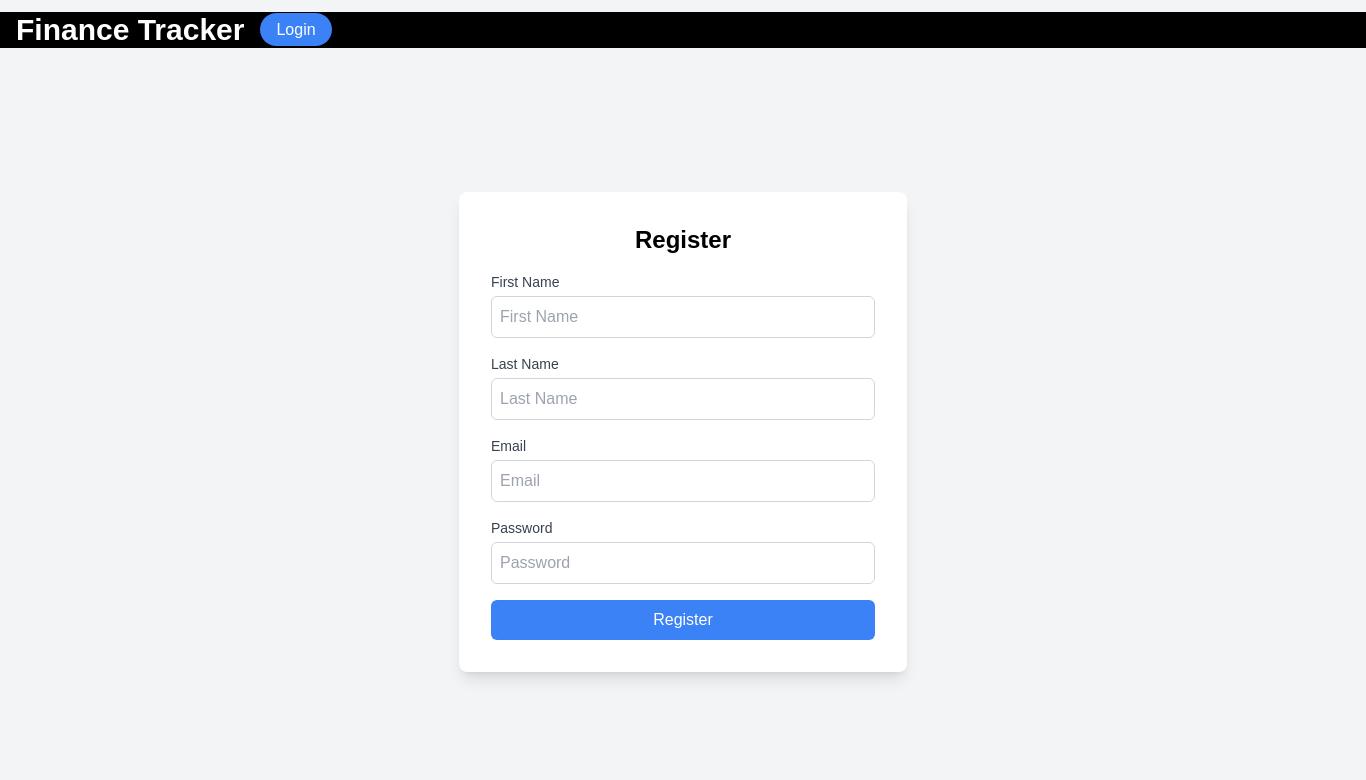
Test: Registration Tests › should display validation errors for missing fields
# Submit the form without filling in fields
Click the submit button.
click(683, 620)  # box [491, 600, 875, 640]
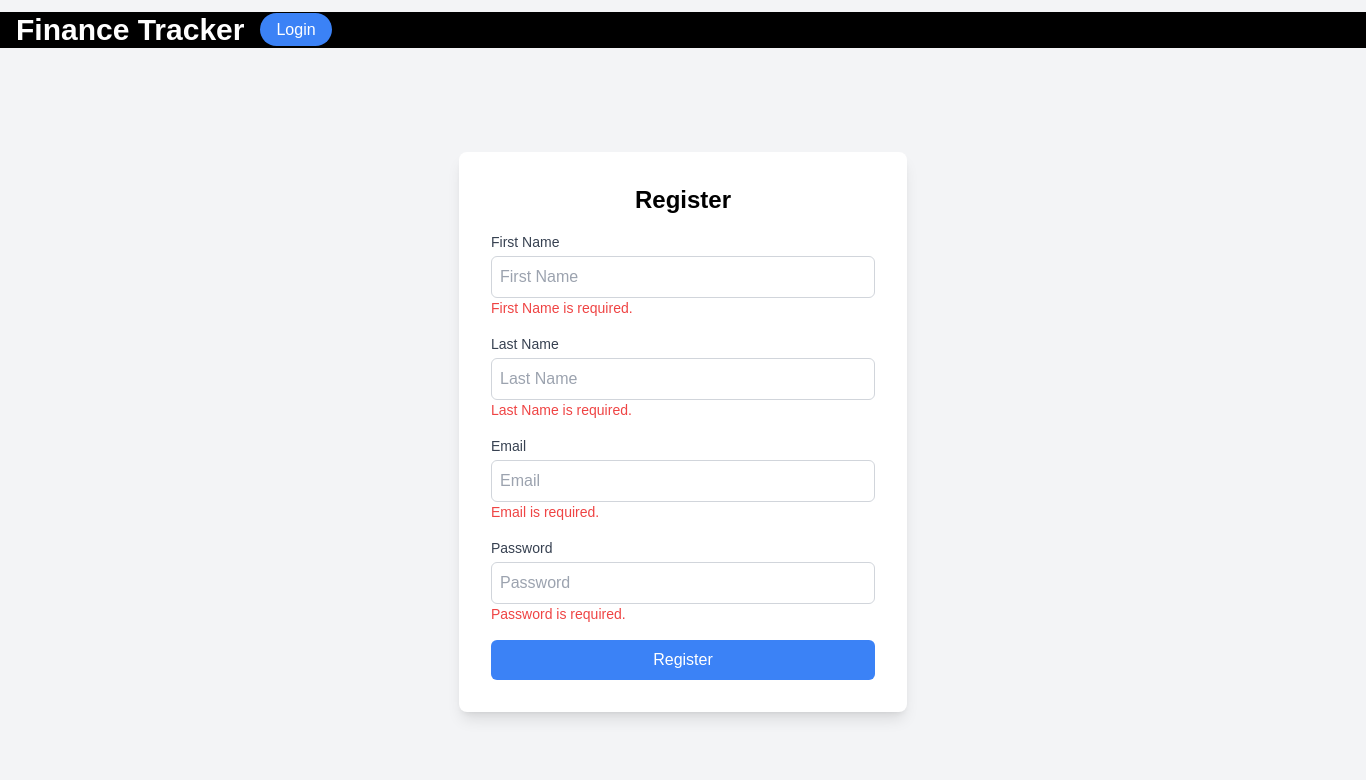
Expected: the text "First Name is required." is shown, [491, 300, 633, 316]
Expected: the text "Last Name is required." is shown, [491, 402, 632, 418]
Expected: the text "Email is required." is shown, [491, 504, 599, 520]
